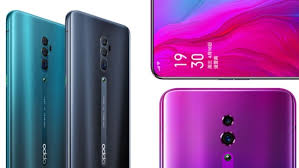oppo: (62, 8, 136, 166), (2, 10, 65, 166)
